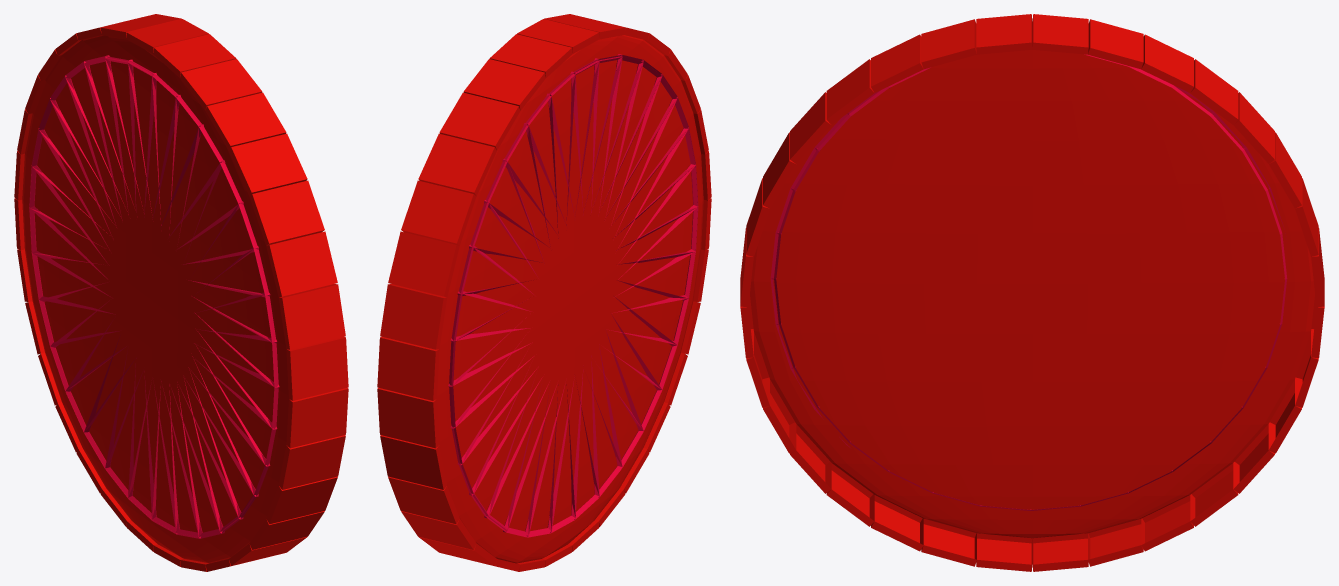
Rendered from redDisc.fbx.
3 views of the same model, side by side, from view 1: azimuth 30°, elevation 25°; view 2: azimuth 150°, elevation 25°; view 3: azimuth 270°, elevation 25° (orthographic). The views are drawn at different scales.
Visible parts, largest first — view 1: Circle, Circle.001; view 2: Circle, Circle.001; view 3: Circle, Circle.001.
Part boxes in pixels (bbox=[...]): Circle: bbox=[14, 14, 348, 571]; Circle.001: bbox=[29, 55, 279, 538]; Circle: bbox=[377, 14, 711, 571]; Circle.001: bbox=[448, 54, 698, 537]; Circle: bbox=[740, 14, 1324, 571]; Circle.001: bbox=[770, 54, 1287, 510].
Bounding box in the file's own units: 17.44 × 144 × 144.
